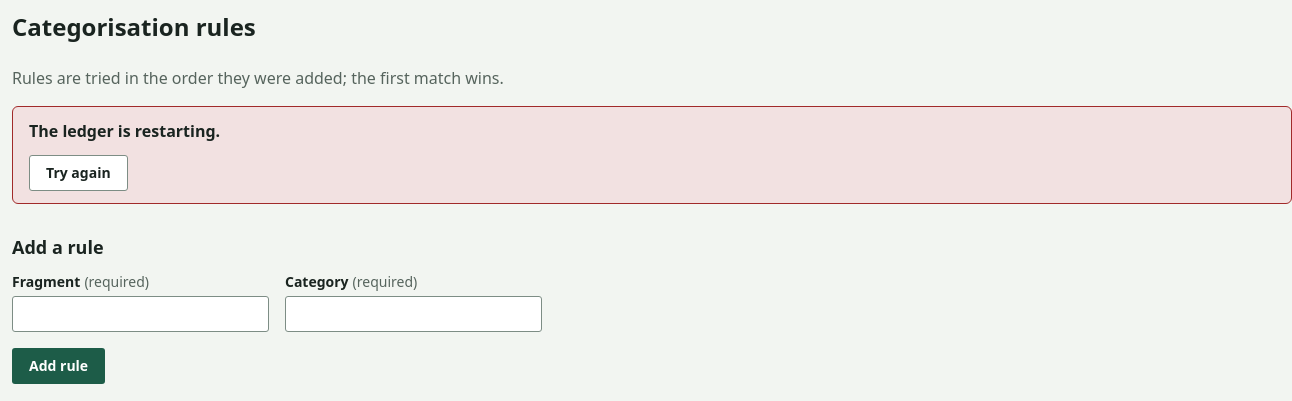
Test case: CategorisationRulesPage › Given_the_list_fails_When_the_page_renders_Then_an_error_state_offers_a_retry_that_refetches
Expected: the text "The ledger is restarting." is shown, [29, 120, 220, 142]
Click the button "Try again" at (78, 173), box [29, 155, 128, 191]
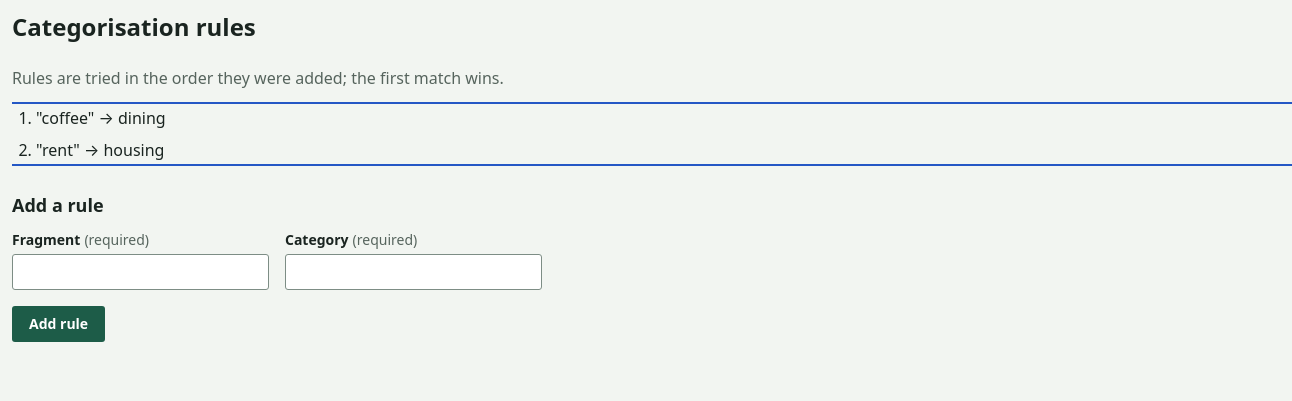
Now the list item "\"coffee\" → dining" is shown, box [36, 107, 166, 129]
